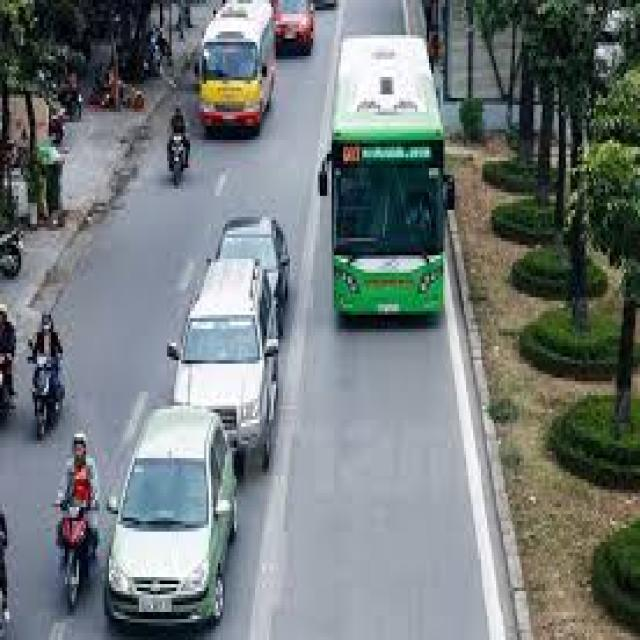bus: (320, 38, 452, 315), (202, 3, 274, 129)
car: (104, 406, 234, 623), (167, 259, 276, 472), (218, 217, 288, 336), (276, 0, 313, 52)
motorcycle: (58, 504, 95, 609), (32, 353, 63, 437), (169, 133, 183, 185)
person: (60, 434, 97, 507), (30, 315, 60, 360), (172, 108, 183, 136)
